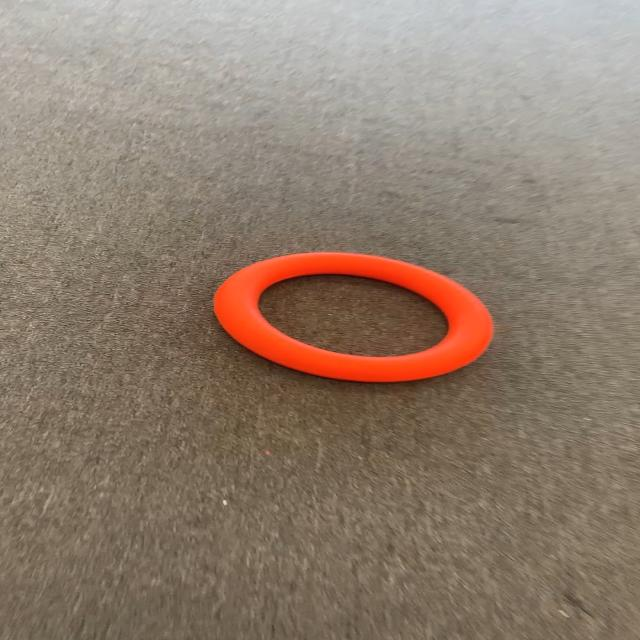notes: (213, 252, 494, 382)
